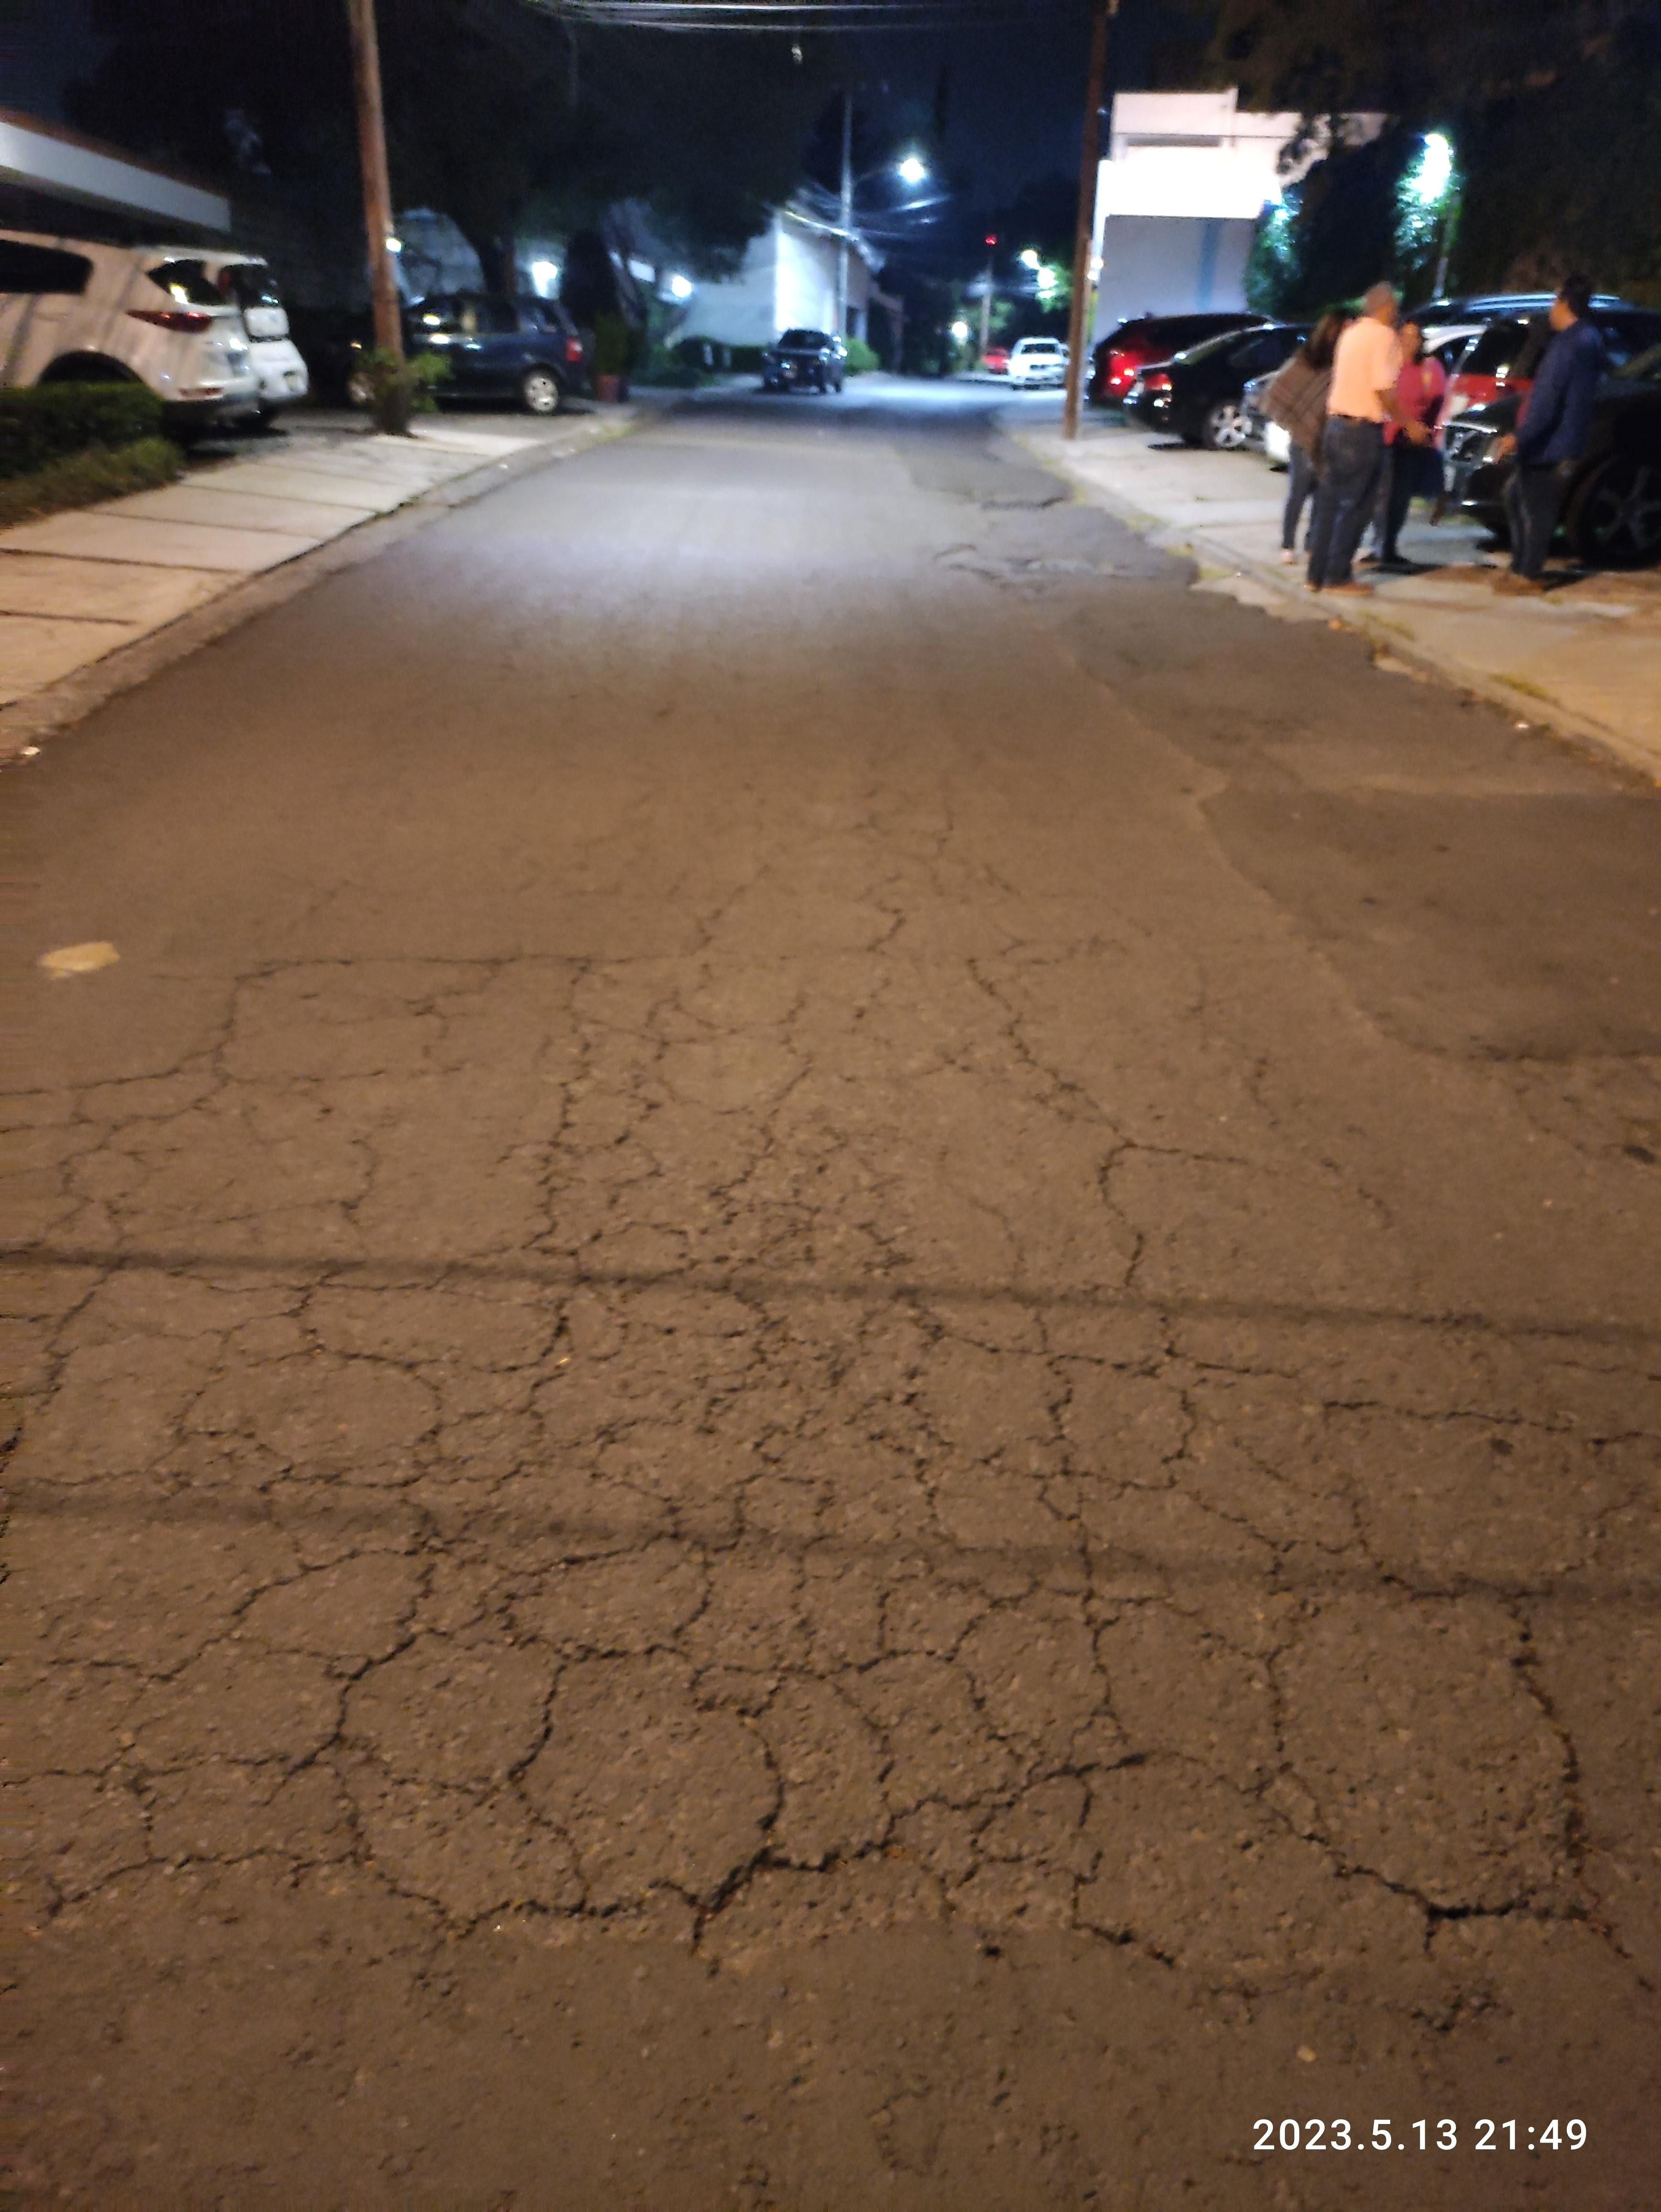pothole: (26, 926, 1661, 2024)
